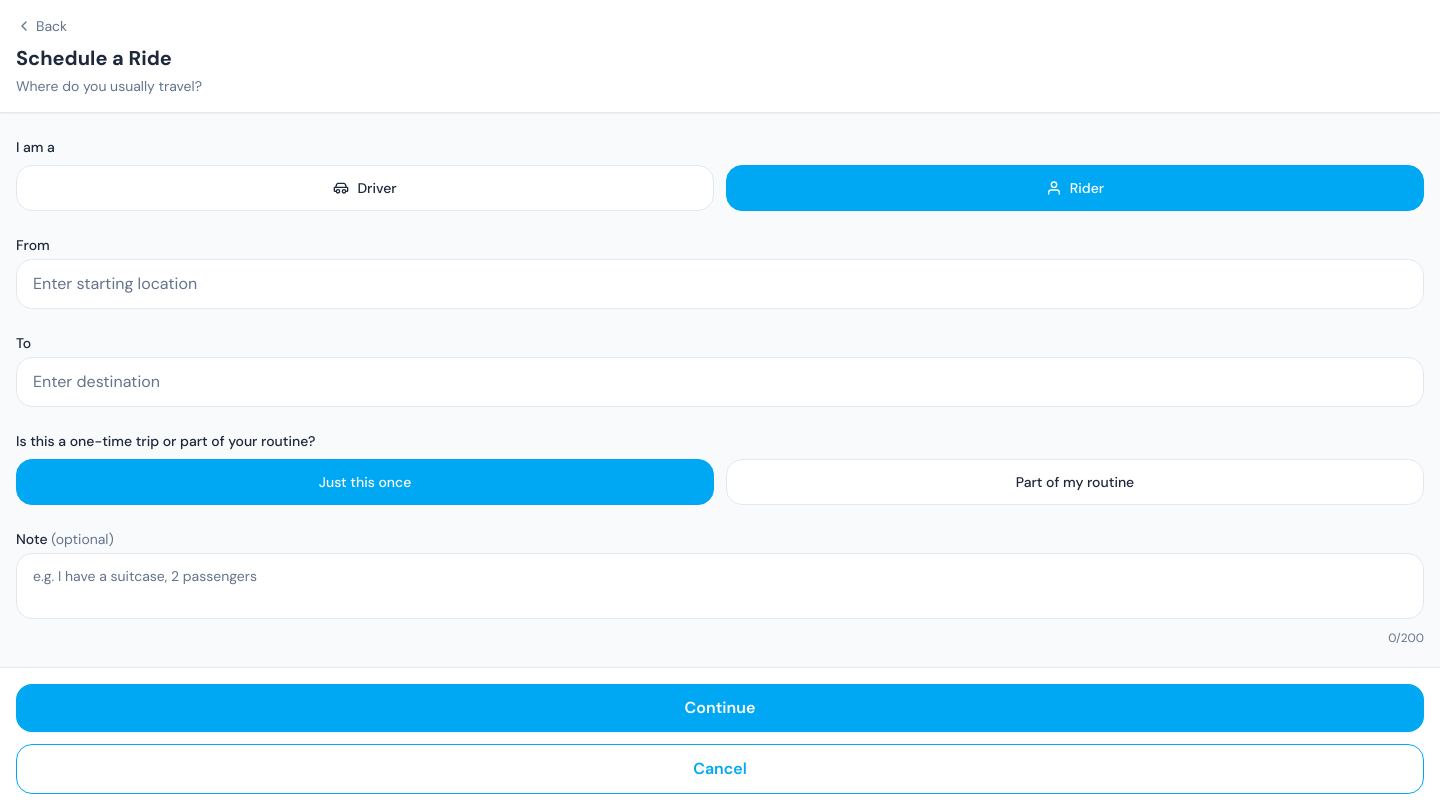
Scenario: SchedulePage › renders route name input when routine is selected
Note: Select routine to reveal it
Click the button with test id "trip-type-routine" at (1075, 482), box x1=726 y1=459 x2=1424 y2=505
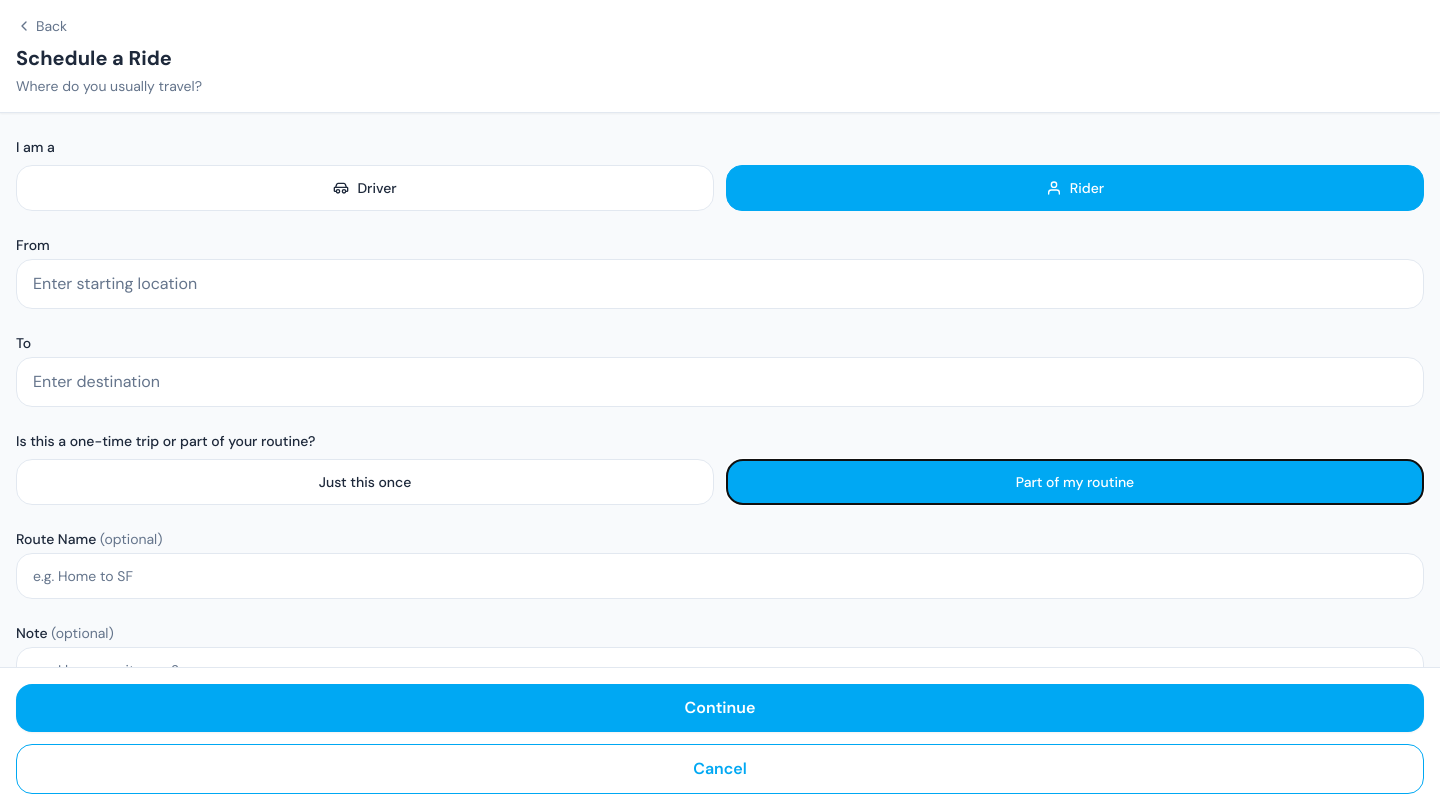
Expected: the field with test id "route-name-input" is shown, x1=16 y1=553 x2=1424 y2=599
